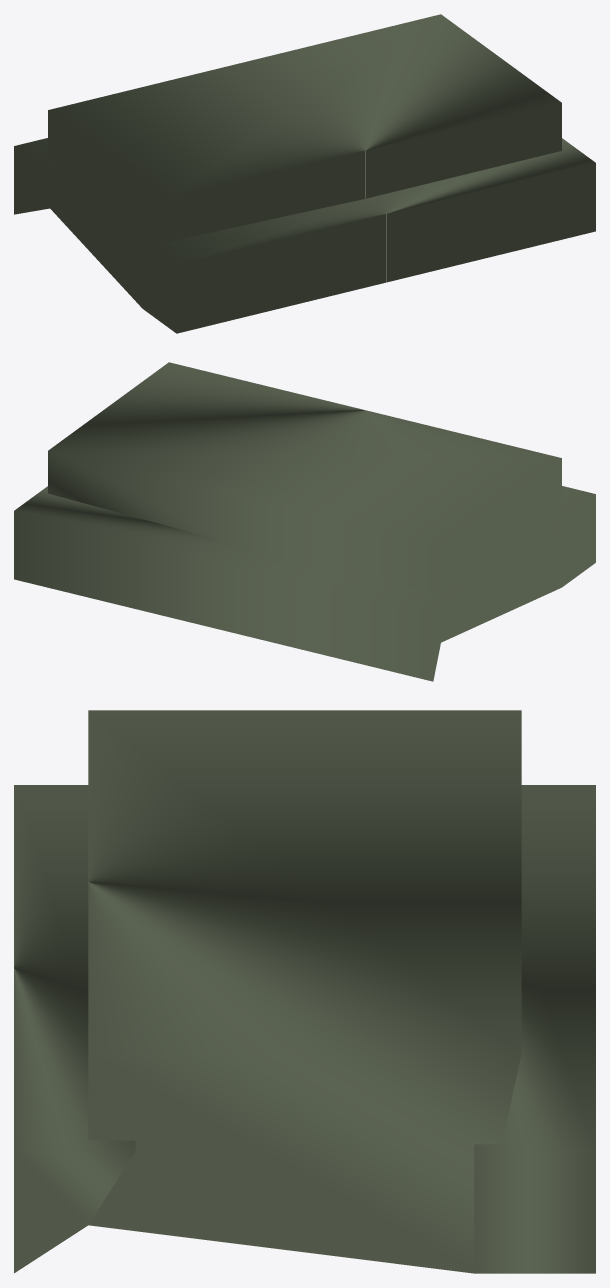
File: tank.lod2.glb
3 views of the same model, one above another, from view 1: azimuth 30°, elevation 25°; view 2: azimuth 150°, elevation 25°; view 3: azimuth 270°, elevation 25° (orthographic). The views are drawn at different scales.
Size of the model in its own units: 3.2 by 0.85 by 2.15.
